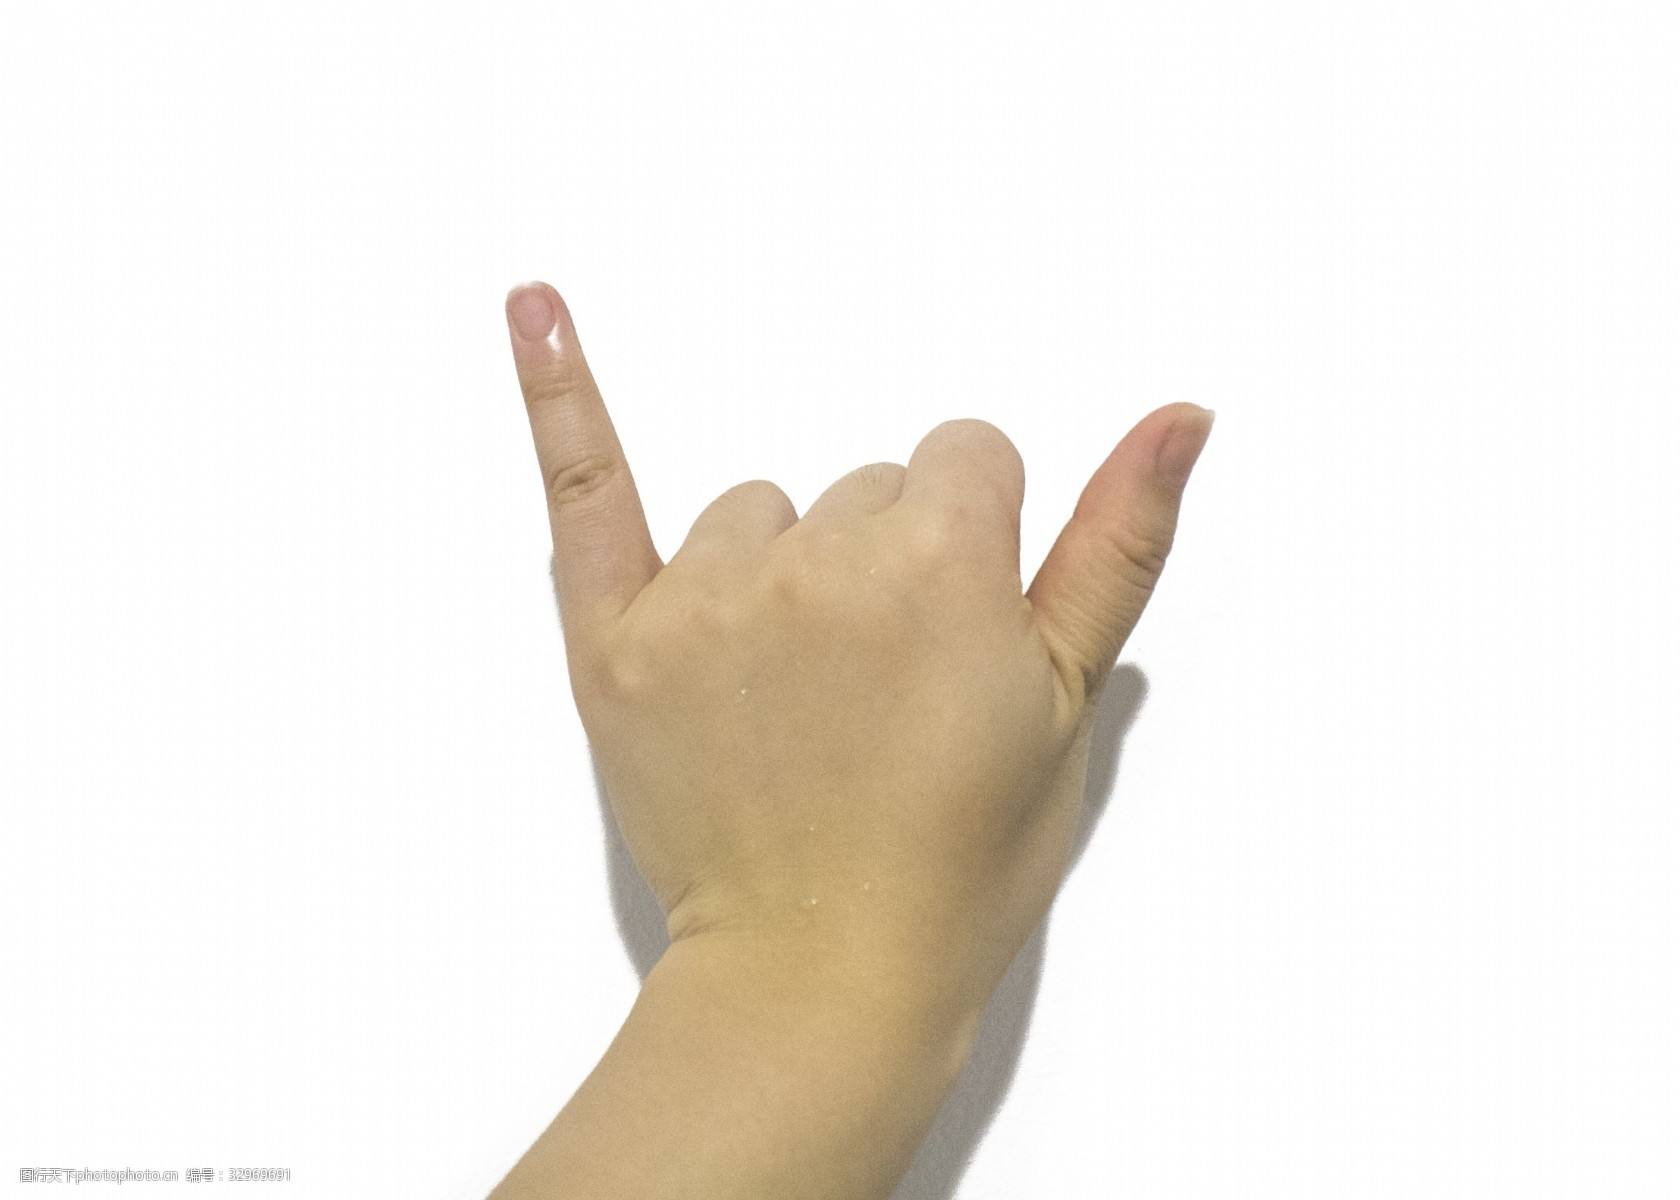clockwise: (486, 277, 1211, 947)
